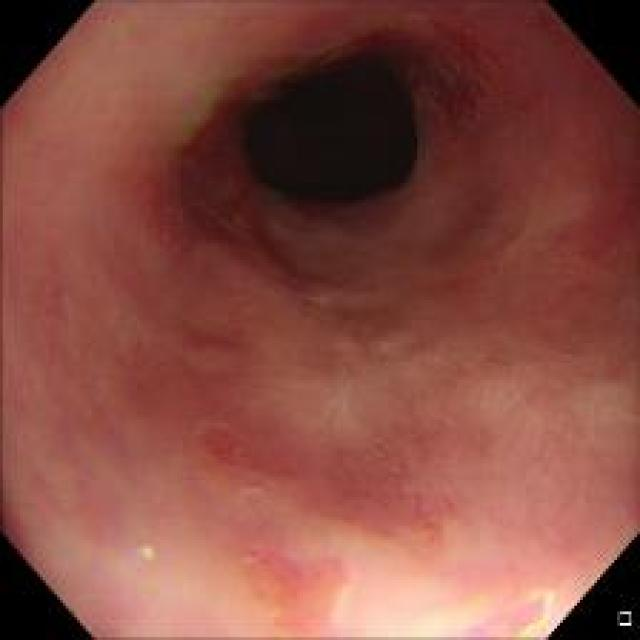color misalignment: (258, 552, 565, 638), (184, 48, 318, 164), (132, 535, 162, 568)
contrast: (225, 38, 429, 244)
